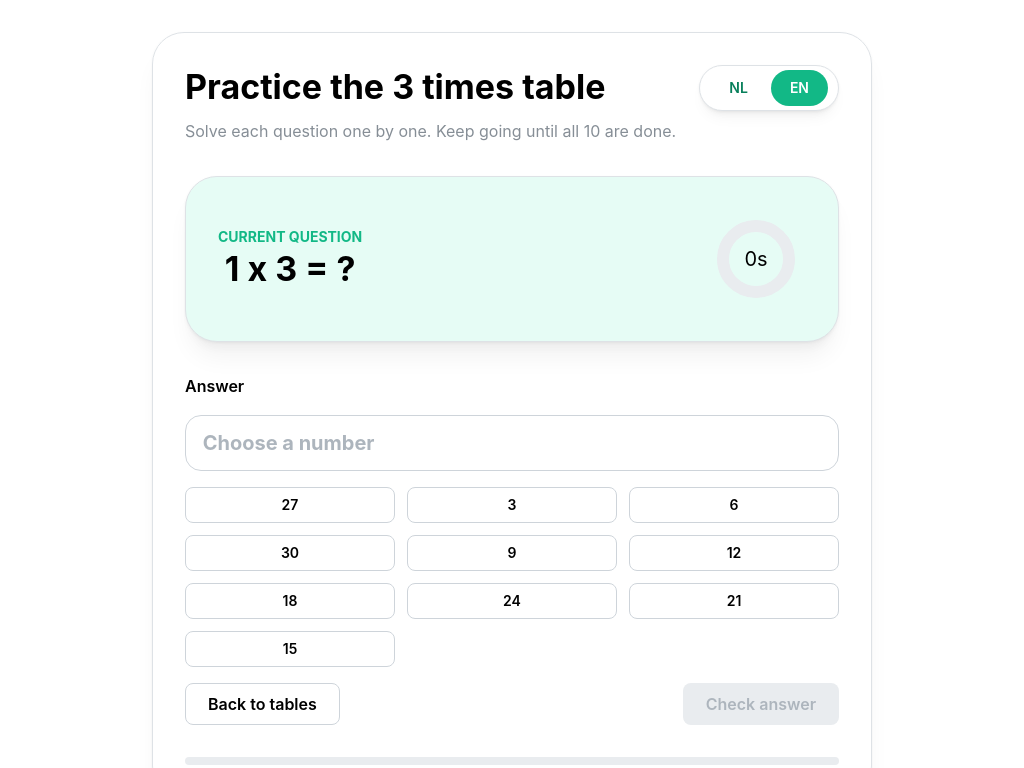
Test: GIVEN the hesitation rule is enabled and the session has advanced, WHEN the timer elapses and the grace period passes, THEN the practice screen returns to the f
Step 1. Click the button "3" → (512, 505), box [407,487,617,523]
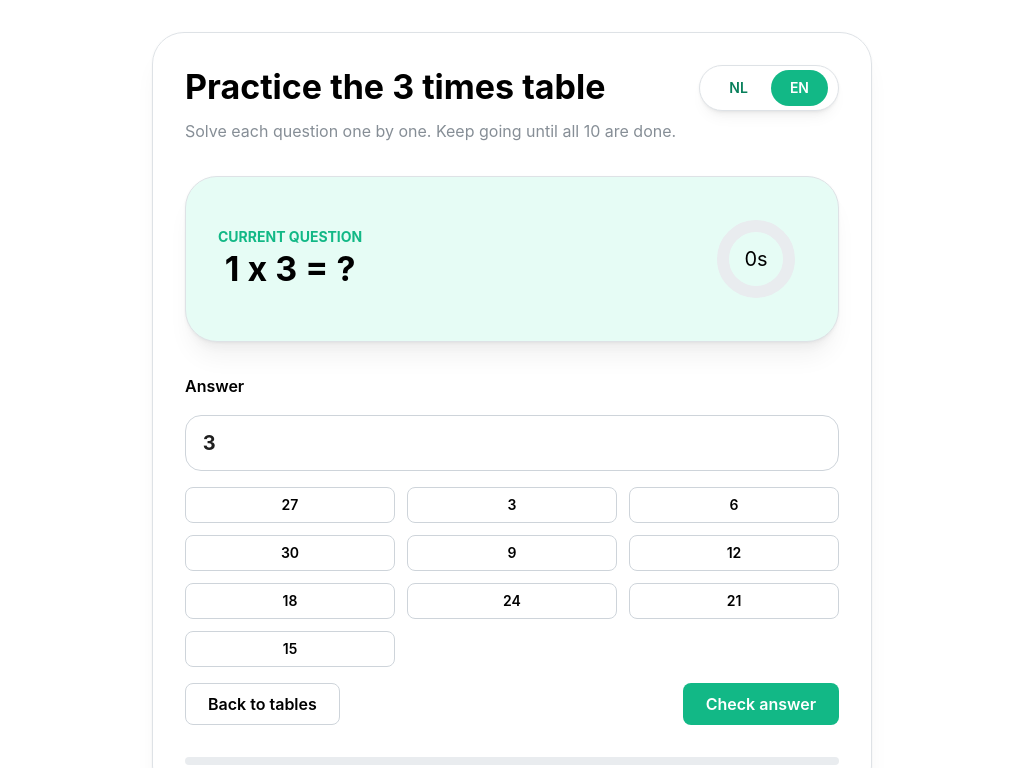
Step 2. Click the button "Check answer" → (761, 704), box [683,683,839,725]
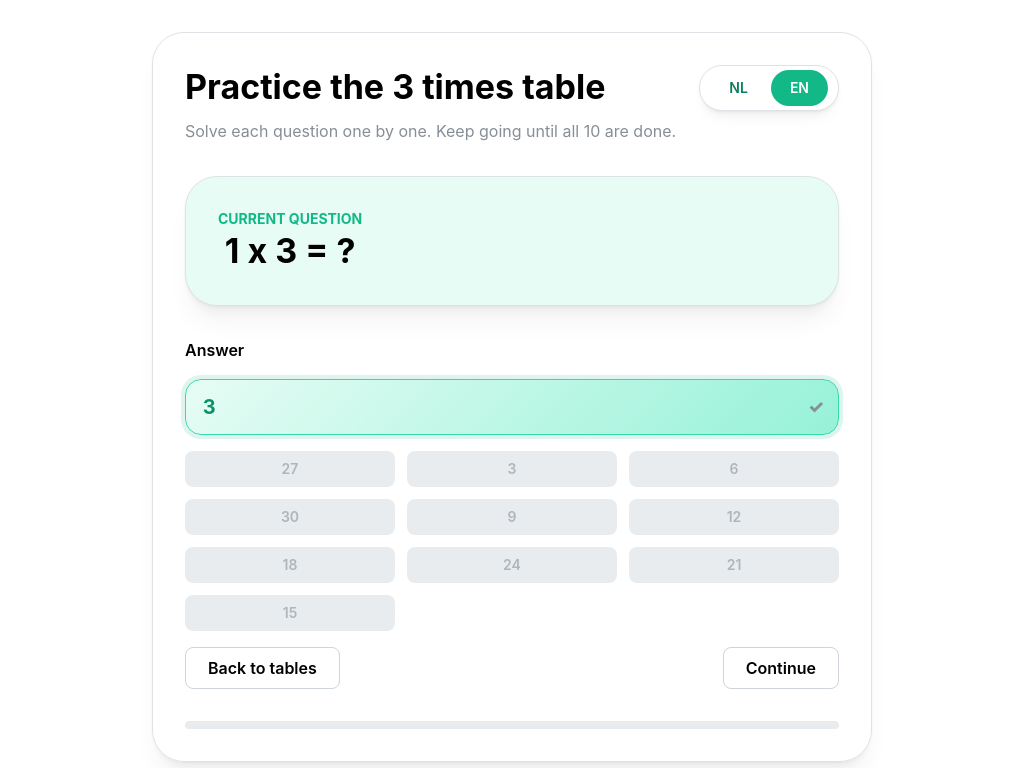
Step 3. Click the button "Continue" → (781, 668), box [723,647,839,689]
Wait 7000 ms
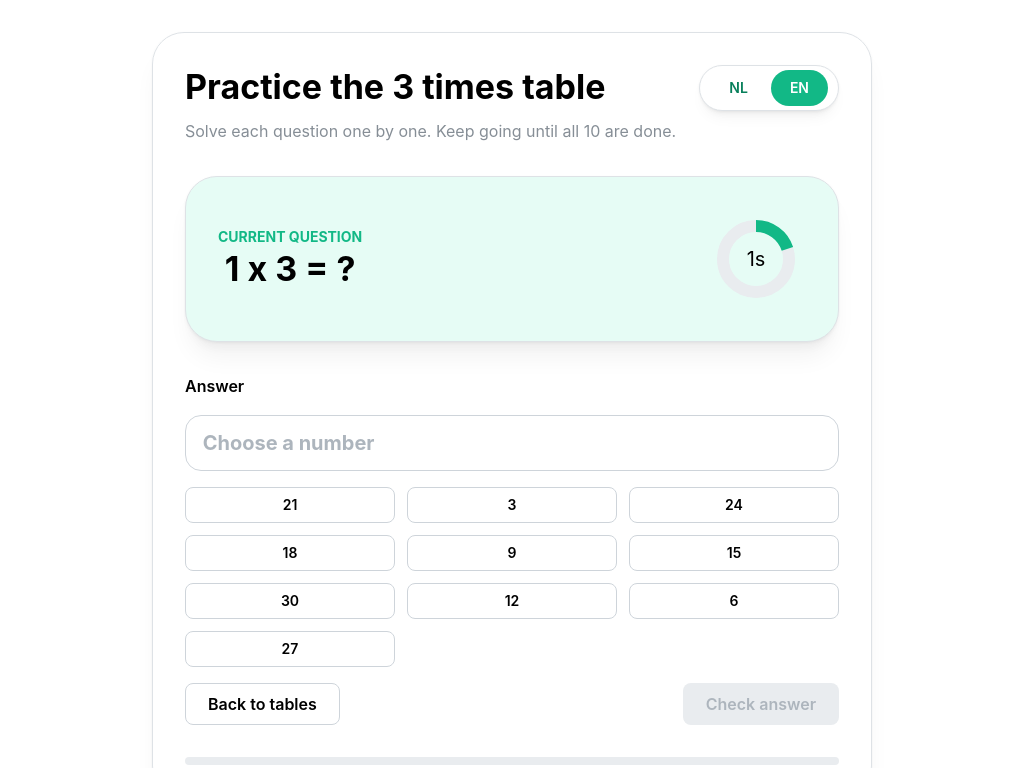
Expected: the heading "1 x 3 = ?" is shown, [218,247,362,291]
Expected: the text "1s" is shown, [747,246,765,270]
